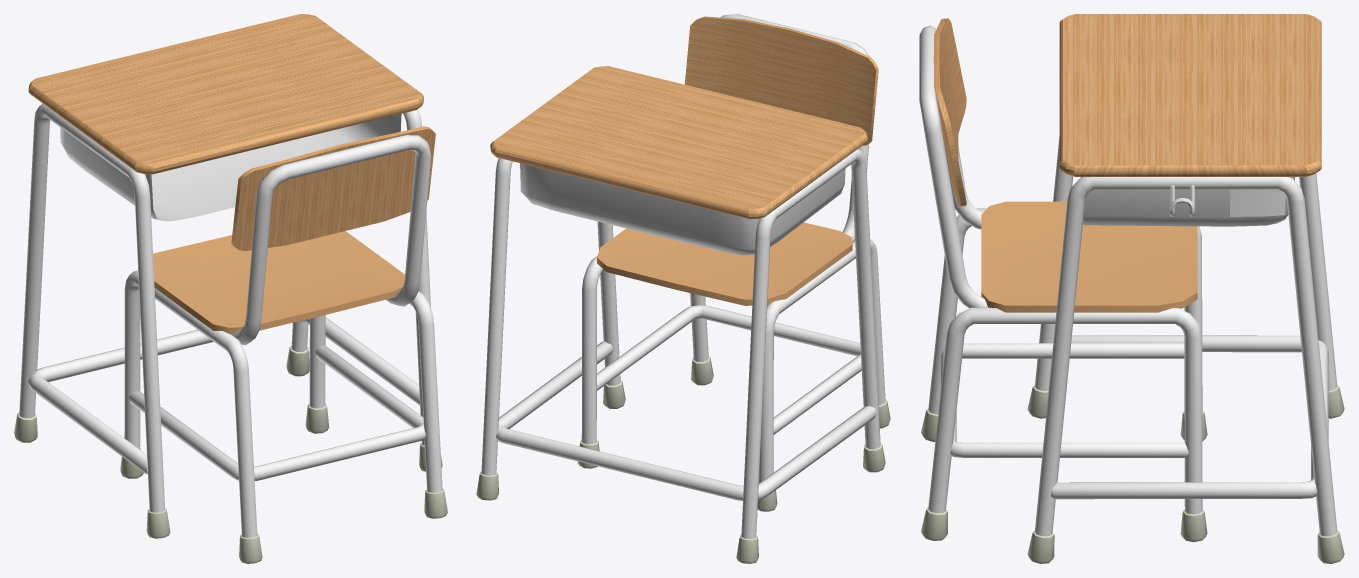
The model's file is sc_jp_desk.glb.
The picture shows the model from 3 angles, left to right: view 1: azimuth 30°, elevation 25°; view 2: azimuth 150°, elevation 25°; view 3: azimuth 270°, elevation 25°; orthographic projection. The views are drawn at different scales.
Parts seen in each view (by area): view 1: 27_ChairFrame, 31_ChairWood, 34_ChairWood, 25_ChairWood, 33_Rubber, 29_ChairWood; view 2: 27_ChairFrame, 31_ChairWood, 28_ChairWood, 34_ChairWood, 33_Rubber, 29_ChairWood; view 3: 27_ChairFrame, 31_ChairWood, 34_ChairWood, 33_Rubber, 28_ChairWood, 29_ChairWood.
Boxes of the visible parts, box(x1,y1,x2,y2) form: 27_ChairFrame: box(19, 103, 442, 537); 31_ChairWood: box(28, 14, 423, 174); 34_ChairWood: box(153, 231, 404, 334); 25_ChairWood: box(234, 129, 435, 250); 33_Rubber: box(14, 346, 447, 563); 29_ChairWood: box(231, 126, 431, 245); 27_ChairFrame: box(481, 14, 885, 539); 31_ChairWood: box(490, 66, 867, 219); 28_ChairWood: box(684, 18, 876, 145); 34_ChairWood: box(597, 222, 852, 305); 33_Rubber: box(476, 356, 890, 563); 29_ChairWood: box(697, 16, 878, 144); 27_ChairFrame: box(919, 25, 1337, 536); 31_ChairWood: box(1059, 14, 1321, 176); 34_ChairWood: box(981, 201, 1197, 312); 33_Rubber: box(921, 385, 1344, 563); 28_ChairWood: box(939, 18, 966, 159); 29_ChairWood: box(933, 18, 966, 206).
Size of the model in its own units: 0.7697 by 0.9467 by 0.8493.
Materials: 4 (1 with a texture image).
